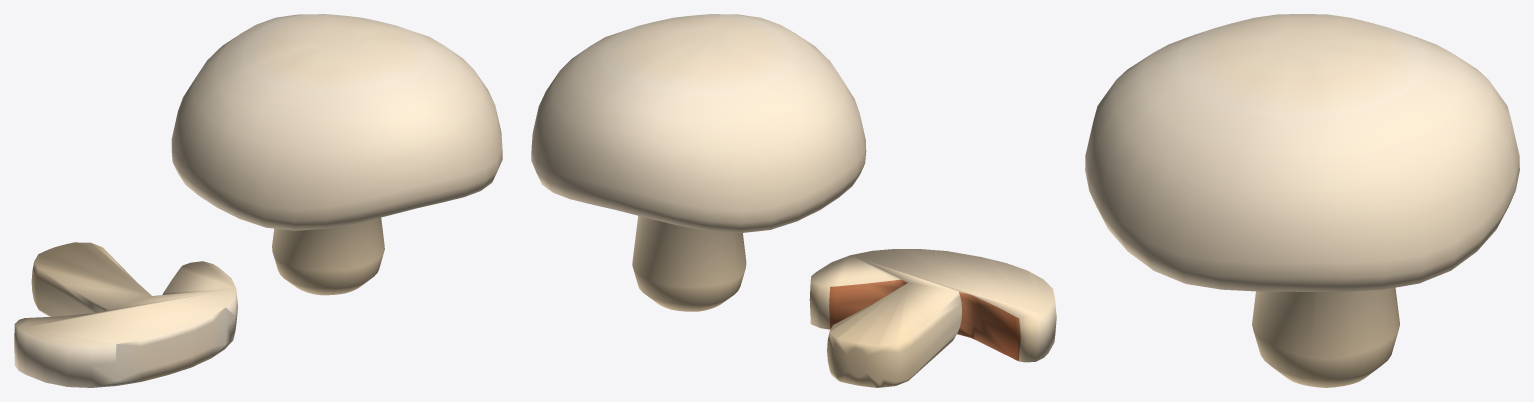
The model's file is Mushroom.fbx.
3 renders of one model, left to right at view 1: azimuth 30°, elevation 25°; view 2: azimuth 150°, elevation 25°; view 3: azimuth 270°, elevation 25°, orthographic. The views are drawn at different scales.
Visible parts, largest first — view 1: Mushroom, Mushroom Slice; view 2: Mushroom, Mushroom Slice; view 3: Mushroom.
Boxes of the visible parts, x1,y1,x2,y2 form: Mushroom: (171, 14, 502, 295); Mushroom Slice: (14, 242, 237, 387); Mushroom: (531, 14, 866, 311); Mushroom Slice: (809, 249, 1056, 387); Mushroom: (1085, 14, 1519, 387).
Size of the model in its own units: 19.74 by 9.95 by 11.95.
